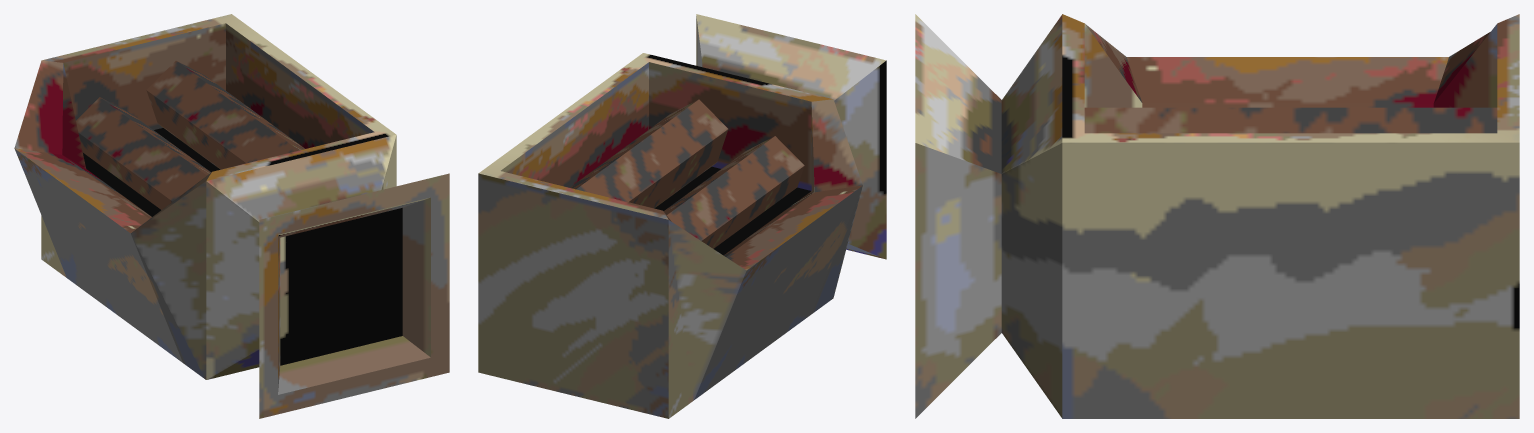
The model's file is MEATGRINDER.fbx.
The picture shows the model from 3 angles, left to right: view 1: azimuth 30°, elevation 25°; view 2: azimuth 150°, elevation 25°; view 3: azimuth 270°, elevation 25°; orthographic projection. The views are drawn at different scales.
Visible parts, largest first — view 1: Cube, Cylinder, Cylinder.001; view 2: Cube, Cylinder, Cylinder.001; view 3: Cube, Cylinder.001.
Boxes of the visible parts, x1,y1,x2,y2 form: Cube: [14, 14, 449, 418]; Cylinder: [146, 60, 304, 169]; Cylinder.001: [76, 97, 210, 209]; Cube: [478, 14, 886, 418]; Cylinder: [569, 99, 728, 208]; Cylinder.001: [663, 136, 804, 248]; Cube: [915, 14, 1519, 418]; Cylinder.001: [1084, 107, 1497, 133].
Bounding box in the file's own units: 255 × 200 × 397.
